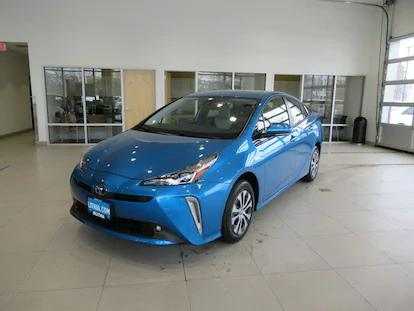Toyota Prius: (70, 89, 324, 247)
